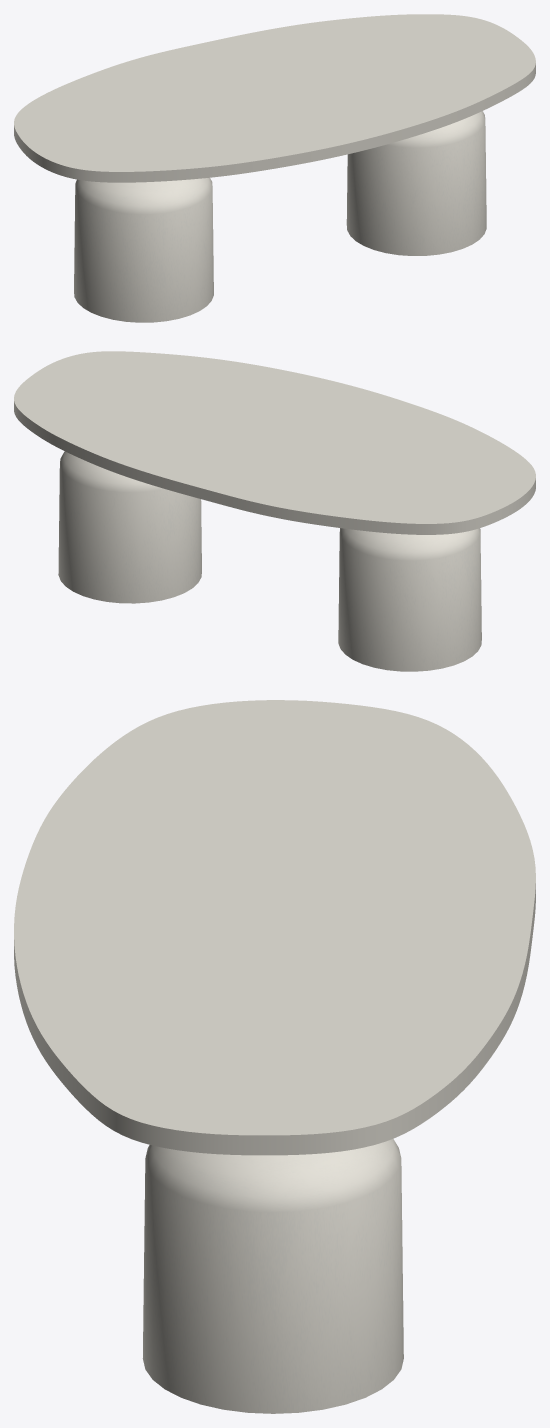
File: pale_danish_standard_tornado.glb
The picture shows the model from 3 angles, top to bottom: view 1: azimuth 30°, elevation 25°; view 2: azimuth 150°, elevation 25°; view 3: azimuth 270°, elevation 25°; orthographic projection. The views are drawn at different scales.
Visible parts, largest first — view 1: standard_danish, tornado; view 2: standard_danish, tornado; view 3: standard_danish, tornado.
Boxes of the visible parts, x1,y1,x2,y2 form: standard_danish: (14, 14, 535, 182); tornado: (74, 111, 486, 322); standard_danish: (14, 351, 535, 534); tornado: (58, 451, 481, 671); standard_danish: (14, 700, 535, 1155); tornado: (142, 1139, 403, 1413).
Size of the model in its own units: 7.5 by 2.51 by 3.8.
1 material, 1 textured.
